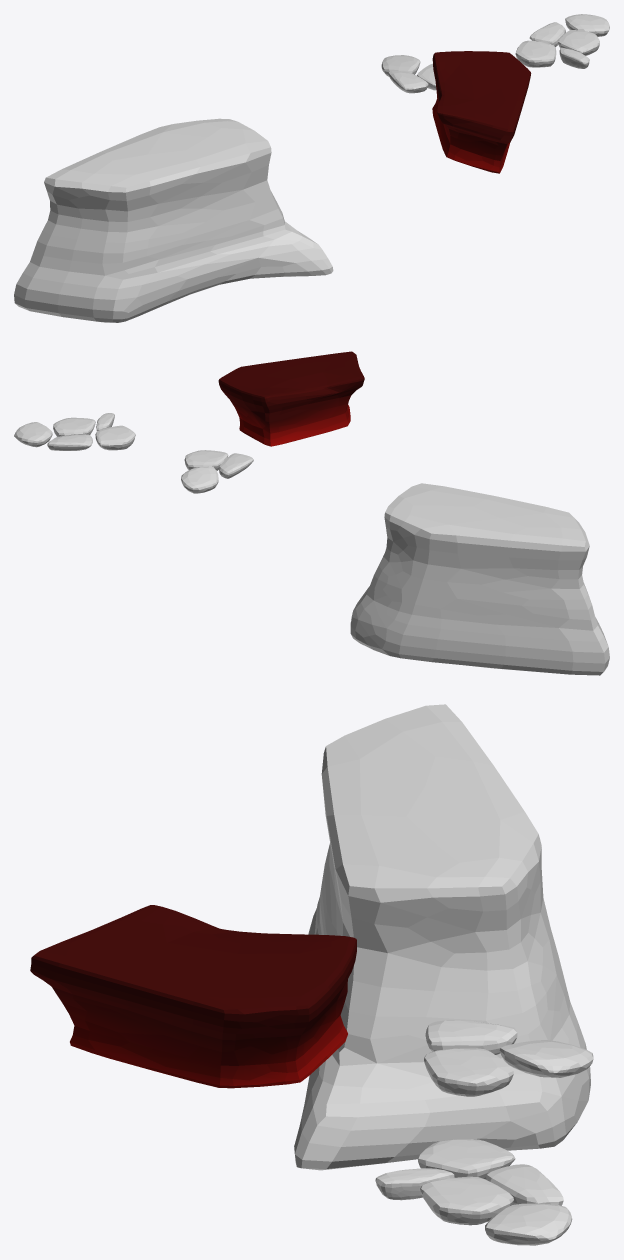
The model's file is Level_3_platforms.fbx.
The picture shows the model from 3 angles, top to bottom: view 1: azimuth 30°, elevation 25°; view 2: azimuth 150°, elevation 25°; view 3: azimuth 270°, elevation 25°; orthographic projection. The views are drawn at different scales.
Visible parts, largest first — view 1: Cube.091, Cube.090, Cube.085, Cube.082, Cube.083, Cube.088, Cube.089, Cube.084, Cube.086; view 2: Cube.091, Cube.090, Cube.089, Cube.085, Cube.083, Cube.082, Cube.087, Cube.084, Cube.088; view 3: Cube.091, Cube.090, Cube.087, Cube.082, Cube.083, Cube.085, Cube.089, Cube.088, Cube.084, Cube.086.
Boxes of the visible parts, box(x1,y1,x2,y2) form: Cube.091: box(14, 118, 333, 322); Cube.090: box(432, 51, 531, 173); Cube.085: box(515, 40, 556, 67); Cube.082: box(558, 30, 599, 55); Cube.083: box(565, 14, 609, 36); Cube.088: box(388, 71, 428, 93); Cube.089: box(381, 55, 420, 76); Cube.084: box(529, 22, 565, 47); Cube.086: box(559, 47, 589, 68); Cube.091: box(350, 483, 609, 675); Cube.090: box(218, 351, 364, 446); Cube.089: box(181, 466, 218, 493); Cube.085: box(95, 425, 135, 450); Cube.083: box(14, 422, 52, 447); Cube.082: box(53, 417, 95, 436); Cube.087: box(184, 450, 228, 470); Cube.084: box(47, 434, 92, 450); Cube.088: box(219, 453, 253, 478); Cube.091: box(294, 704, 590, 1170); Cube.090: box(30, 905, 356, 1088); Cube.087: box(424, 1048, 513, 1096); Cube.082: box(420, 1176, 513, 1225); Cube.083: box(485, 1203, 572, 1245); Cube.085: box(418, 1139, 515, 1179); Cube.089: box(499, 1040, 593, 1077); Cube.088: box(425, 1020, 517, 1054); Cube.084: box(486, 1164, 563, 1205); Cube.086: box(375, 1168, 454, 1200).
Bounding box in the file's own units: 3139 × 921 × 1341.
